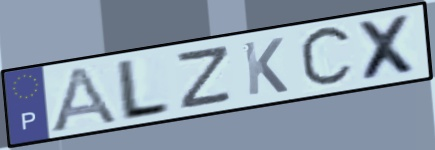A: (46, 63, 121, 136)
C: (297, 22, 357, 93)
K: (240, 35, 291, 98)
L: (116, 56, 173, 124)
X: (353, 12, 423, 83)
Z: (176, 42, 235, 112)
